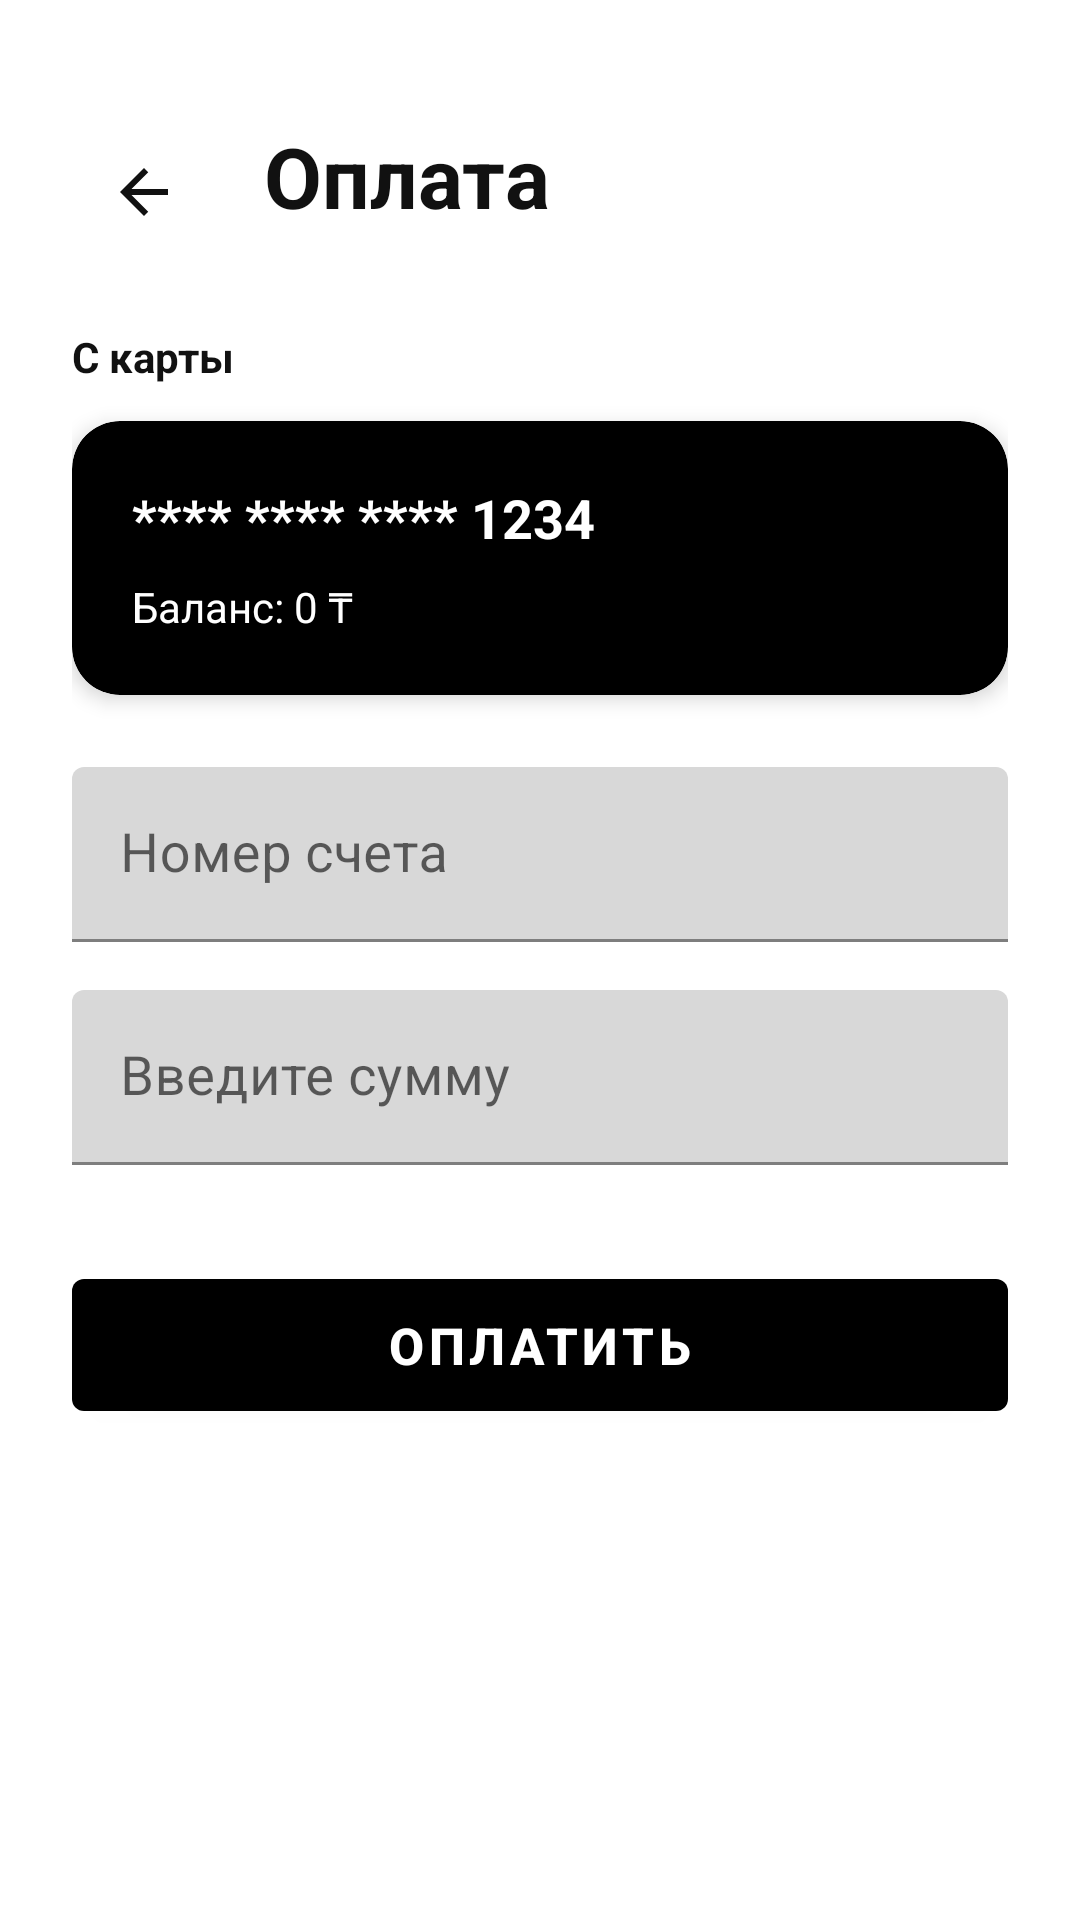

Locate icon controls on the screen. Image size 1080*1920, boxes as (x1, y1, x2, y2).
arrow back: (120, 168, 168, 216)
